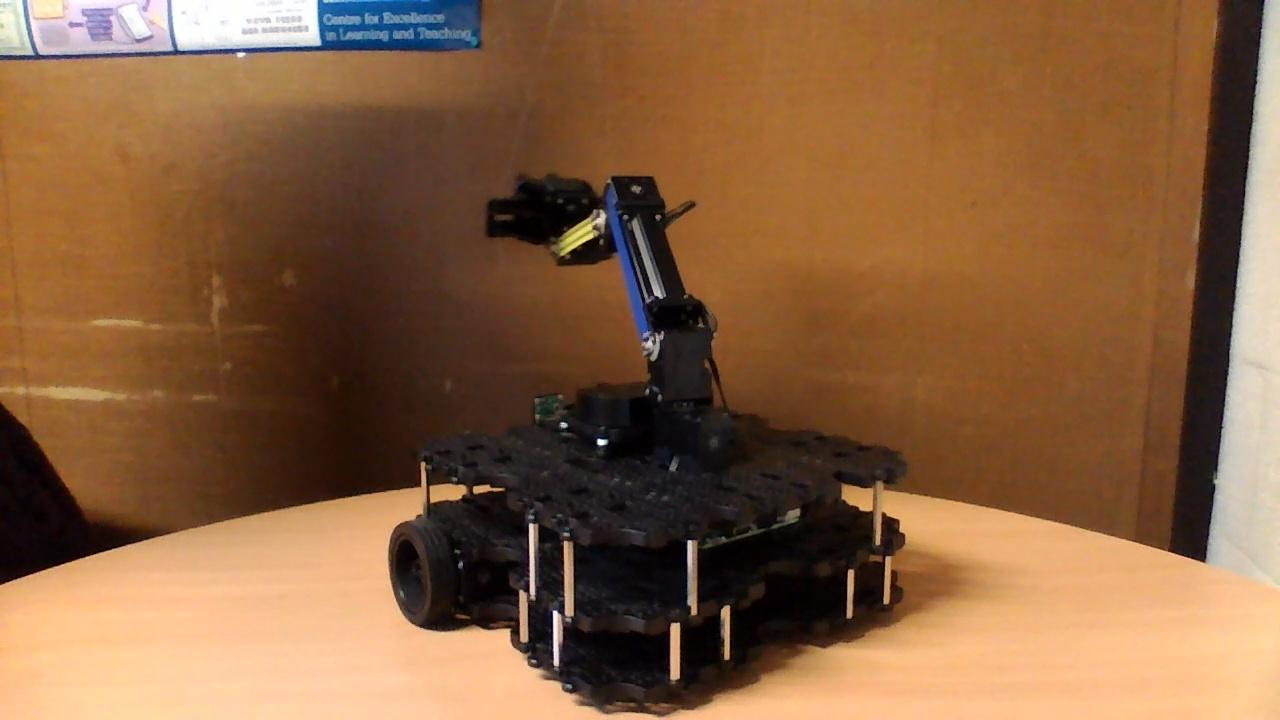Arm: (604, 173, 722, 363)
Hand: (485, 167, 605, 246)
Wrist: (546, 206, 618, 265)
base: (385, 380, 911, 704)
